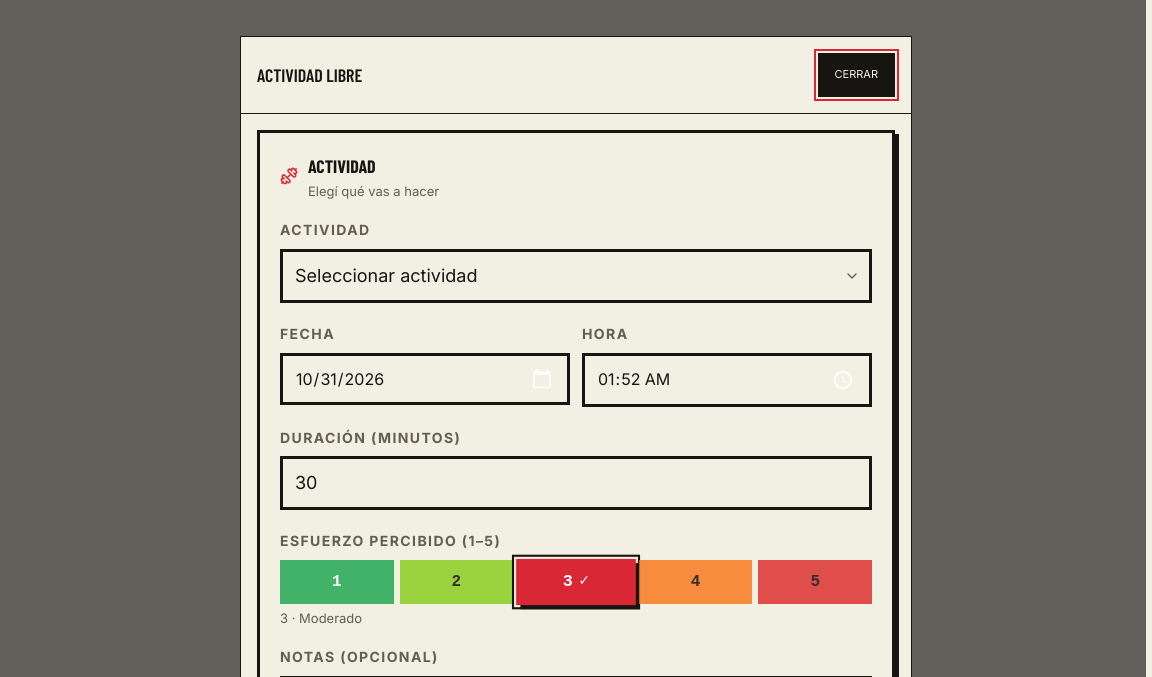
Scenario: ActivityModal › el selector guarda el valor elegido y muestra su descripción
What coordinates should you click on to do the following:
click the button named "Esfuerzo 4"
I would click on:
 (696, 582)
Its box is [639,560,752,604].
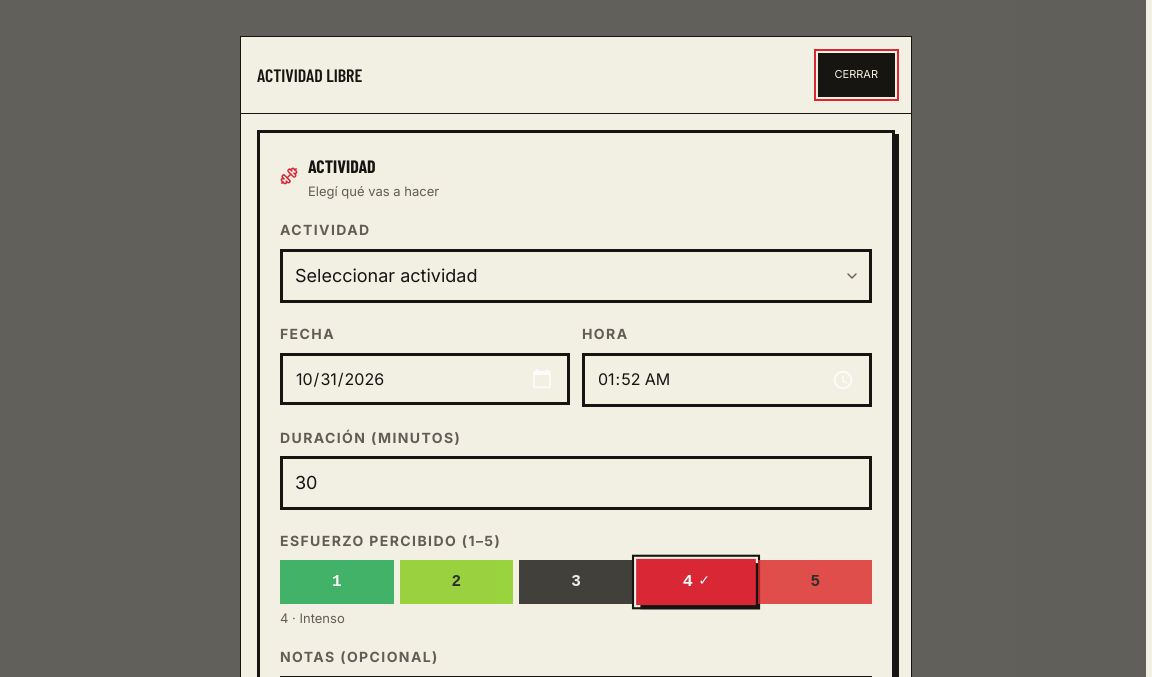
Check: the text "4 · Intenso" is shown, box [280,610,345,626]
